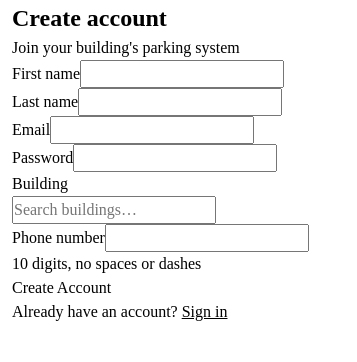
Scenario: registerForm › shows no-buildings message when list is empty
Click the field labelled "Building": (114, 210) [12,196,216,224]
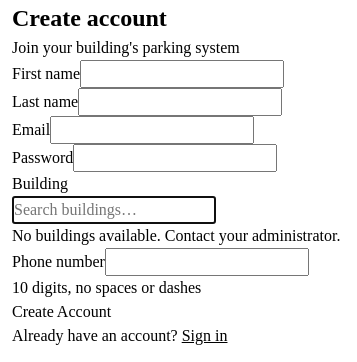
Now the list item "No buildings available. Contact your administrator." is shown, box [12,227,340,244]
